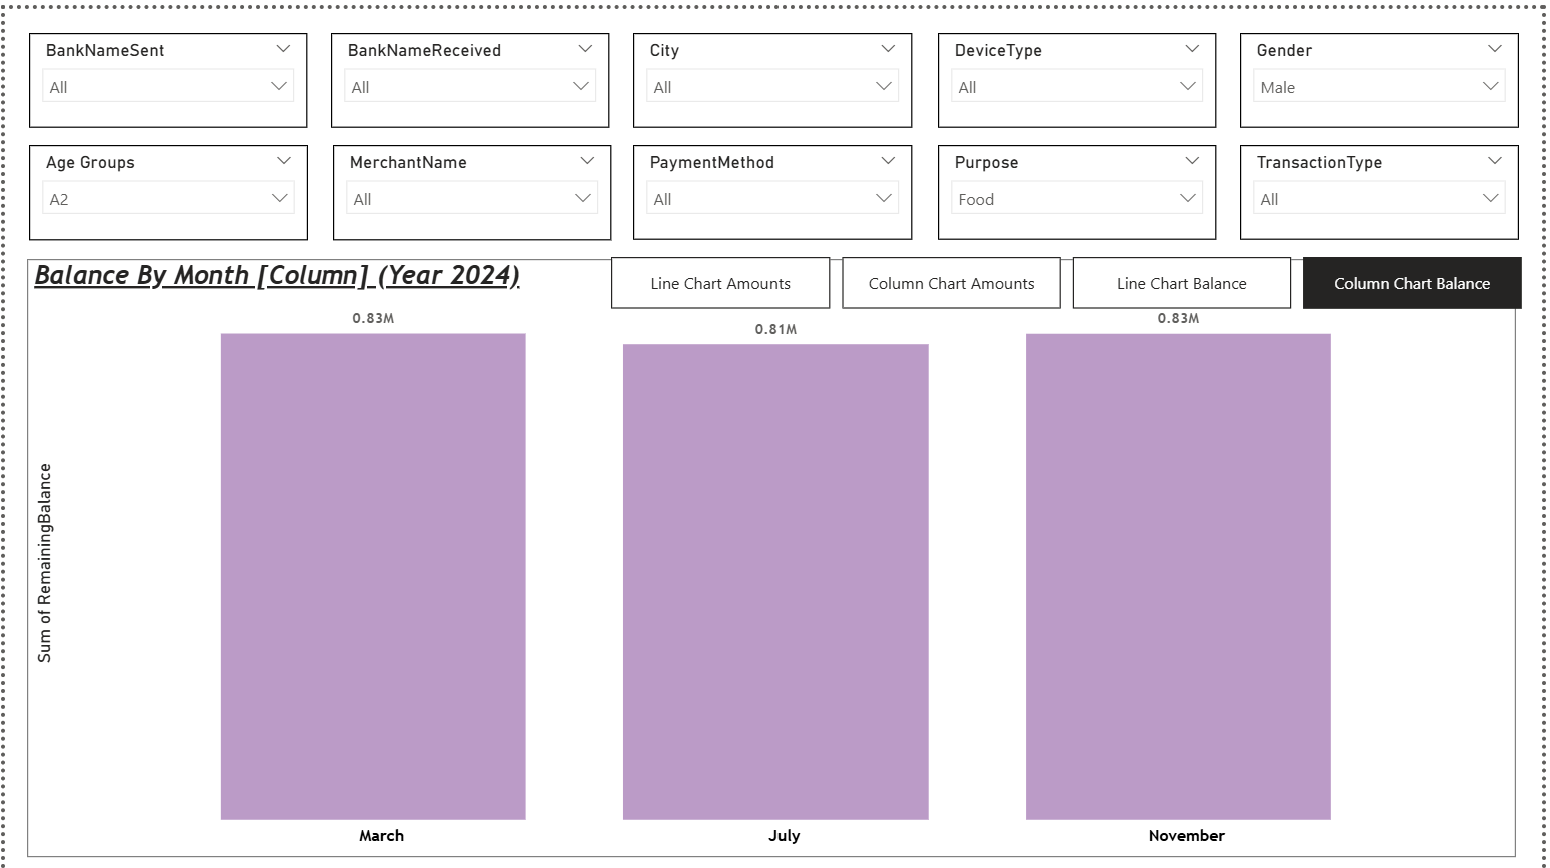

The dashboard page shown, as its layout file describes it:
{"tool":"powerbi","page":{"name":"Page 1","canvas":[1280,720],"ordinal":0},"visuals":[{"type":"slicer","fields":{"Values":["UPI Transactions.BankNameSent"]},"box":[20,20,232,79],"z":0},{"type":"slicer","fields":{"Values":["UPI Transactions.BankNameReceived"]},"box":[272,20,232,79],"z":1000},{"type":"slicer","fields":{"Values":["UPI Transactions.City"]},"box":[524,20,232,79],"z":2000},{"type":"slicer","fields":{"Values":["UPI Transactions.DeviceType"]},"box":[776,20,232,79],"z":3000},{"type":"slicer","fields":{"Values":["UPI Transactions.Gender"]},"box":[1028,20,232.7,79],"z":4000},{"type":"slicer","fields":{"Values":["UPI Transactions.Age Groups"]},"box":[20,113.3,232.7,79.6],"z":5000},{"type":"slicer","fields":{"Values":["UPI Transactions.MerchantName"]},"box":[272.5,113.3,232,79.6],"z":6000},{"type":"slicer","fields":{"Values":["UPI Transactions.PaymentMethod"]},"box":[524,113.4,232,79],"z":7000},{"type":"slicer","fields":{"Values":["UPI Transactions.Purpose"]},"box":[776,113.4,232,79],"z":8000},{"type":"slicer","fields":{"Values":["UPI Transactions.TransactionType"]},"box":[1028,113.4,232.7,79],"z":9000},{"type":"columnChart","title":"Balance By Month [Column] (Year 2024)","fields":{"Category":["UPI Transactions.TransactionDate.Variation.Date Hierarchy.Month"],"Y":["Sum(UPI Transactions.RemainingBalance)"]},"box":[18.9,207.8,1239.9,498.3],"z":12000},{"type":"bookmarkNavigator","box":[504.2,206.2,760.4,43.8],"z":14000}]}

Visuals, with their boxes in screenshot pixels (x1, y1, x2, y2), scaled from the page's 1280x720 canvas onto the 1550x868 screenshot:
slicer - UPI Transactions.BankNameSent: <region>24, 24, 305, 119</region>
slicer - UPI Transactions.BankNameReceived: <region>329, 24, 610, 119</region>
slicer - UPI Transactions.City: <region>635, 24, 915, 119</region>
slicer - UPI Transactions.DeviceType: <region>940, 24, 1221, 119</region>
slicer - UPI Transactions.Gender: <region>1245, 24, 1527, 119</region>
slicer - UPI Transactions.Age Groups: <region>24, 137, 306, 233</region>
slicer - UPI Transactions.MerchantName: <region>330, 137, 611, 233</region>
slicer - UPI Transactions.PaymentMethod: <region>635, 137, 915, 232</region>
slicer - UPI Transactions.Purpose: <region>940, 137, 1221, 232</region>
slicer - UPI Transactions.TransactionType: <region>1245, 137, 1527, 232</region>
"Balance By Month [Column] (Year 2024)" columnChart: <region>23, 251, 1524, 851</region>
bookmarkNavigator: <region>611, 249, 1531, 301</region>
